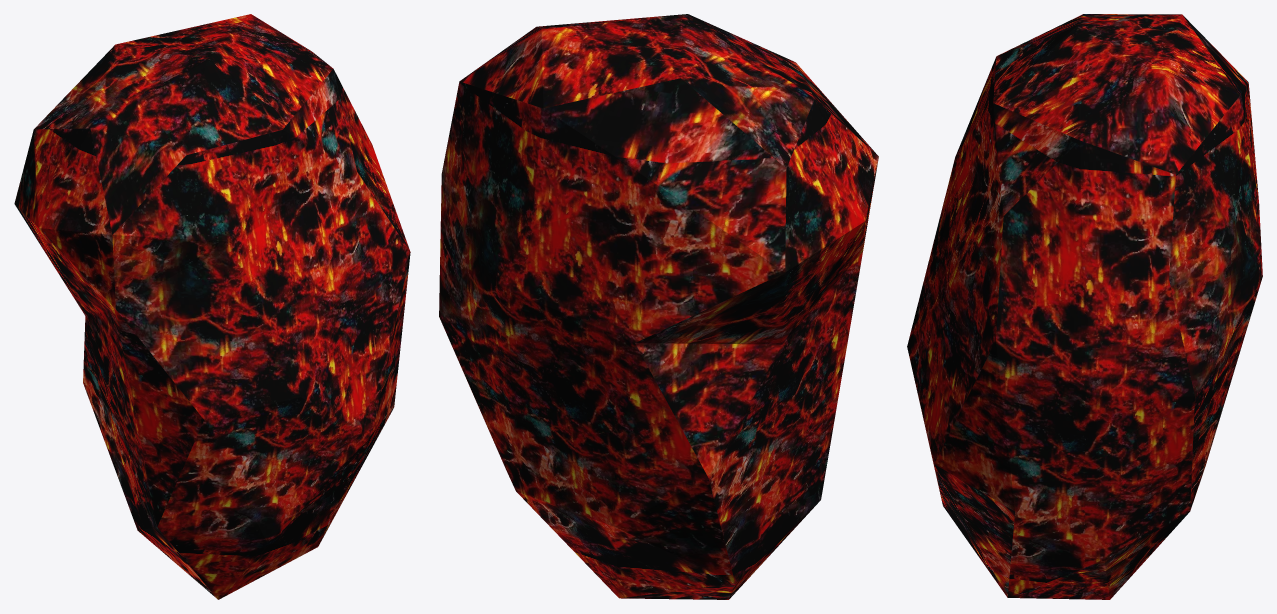
Rendered from ITAT_FIREGOLEMHEART.glb.
3 renders of one model, left to right at view 1: azimuth 30°, elevation 25°; view 2: azimuth 150°, elevation 25°; view 3: azimuth 270°, elevation 25°, orthographic. The views are drawn at different scales.
Visible parts, largest first — view 1: ITAT_FIREGOLEMHEART; view 2: ITAT_FIREGOLEMHEART; view 3: ITAT_FIREGOLEMHEART.
Boxes of the visible parts, x1,y1,x2,y2 form: ITAT_FIREGOLEMHEART: (14,14,410,599); ITAT_FIREGOLEMHEART: (439,14,878,599); ITAT_FIREGOLEMHEART: (907,14,1262,599).
Bounding box in the file's own units: 0.2162 × 0.3053 × 0.1735.
1 material, 1 textured.
